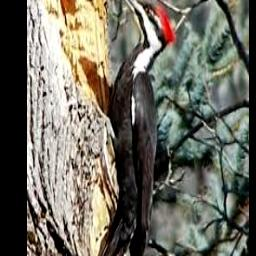Woodpecker: (91, 0, 174, 256)
